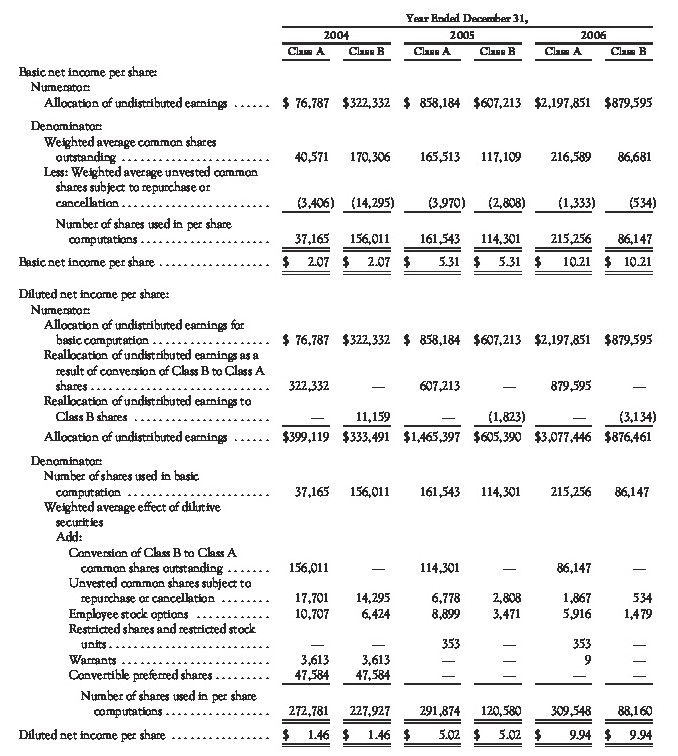table: (0, 0, 678, 756)
